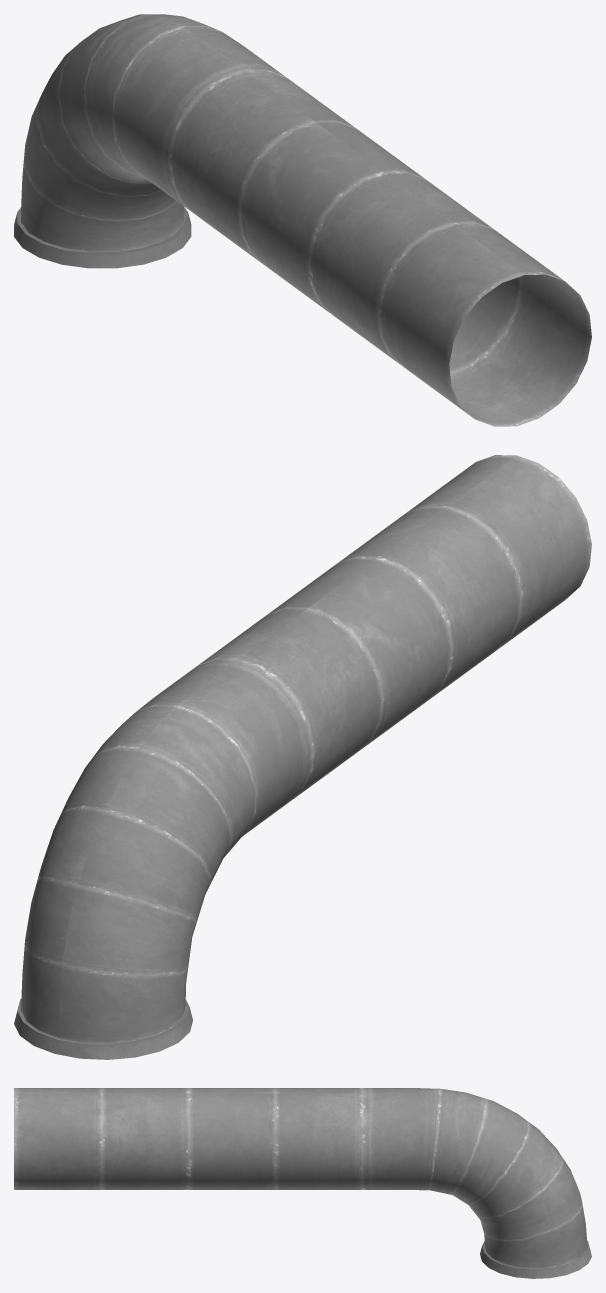
The model's file is SM_Air_Vent_01j.glb.
The picture shows the model from 3 angles, top to bottom: view 1: azimuth 30°, elevation 25°; view 2: azimuth 150°, elevation 25°; view 3: azimuth 270°, elevation 25°; orthographic projection. The views are drawn at different scales.
Visible parts, largest first — view 1: SM_Air_Vent_01j; view 2: SM_Air_Vent_01j; view 3: SM_Air_Vent_01j.
Boxes of the visible parts, x1,y1,x2,y2 form: SM_Air_Vent_01j: (14,14,591,426); SM_Air_Vent_01j: (14,455,591,1059); SM_Air_Vent_01j: (14,1088,591,1278).
Size of the model in its own units: 0.3219 by 0.5302 by 1.66.
1 material, 1 textured.
